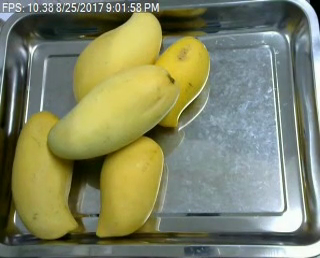Mango: (46, 64, 178, 160), (70, 8, 162, 107), (10, 110, 76, 240), (88, 135, 168, 236), (141, 31, 213, 126)
